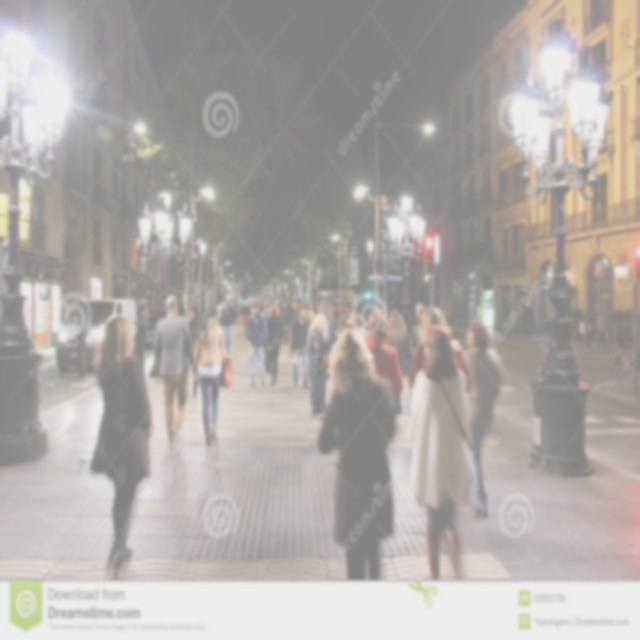pessoa: (314, 322, 398, 624), (88, 310, 154, 578), (407, 324, 472, 584), (461, 318, 502, 521), (153, 293, 195, 447), (409, 304, 472, 391), (192, 304, 225, 448), (363, 308, 404, 417), (305, 312, 329, 420), (244, 300, 272, 390), (321, 303, 368, 347), (290, 304, 311, 390), (266, 304, 285, 387), (188, 306, 202, 400), (387, 309, 407, 372), (133, 298, 149, 375), (408, 298, 427, 356), (74, 304, 88, 379), (260, 301, 272, 375), (220, 298, 234, 353), (612, 316, 625, 367), (625, 308, 635, 368), (280, 301, 290, 346), (544, 310, 556, 340), (583, 310, 592, 348), (60, 300, 72, 328), (598, 311, 606, 350), (242, 301, 250, 336), (305, 300, 316, 324), (211, 300, 224, 318), (278, 298, 292, 312), (289, 300, 299, 316), (256, 300, 266, 314), (237, 300, 244, 316), (306, 310, 312, 326), (326, 366, 330, 381), (288, 320, 292, 332)
